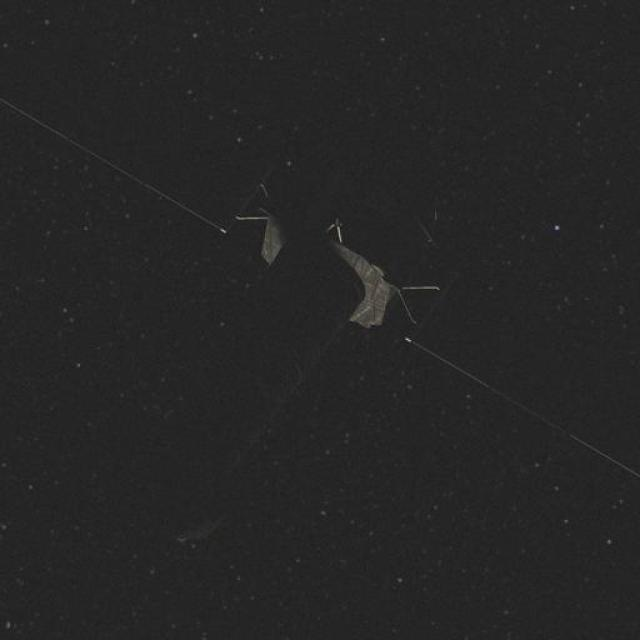xmm_newton: (11, 118, 603, 482)
